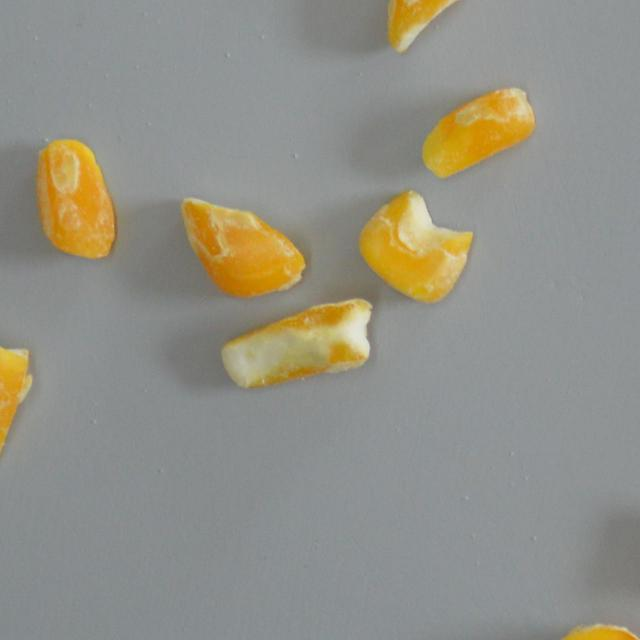dañado: (218, 294, 376, 392), (170, 190, 308, 299), (356, 186, 479, 305), (418, 78, 541, 184), (34, 130, 118, 264), (374, 0, 492, 55), (0, 324, 38, 493)
